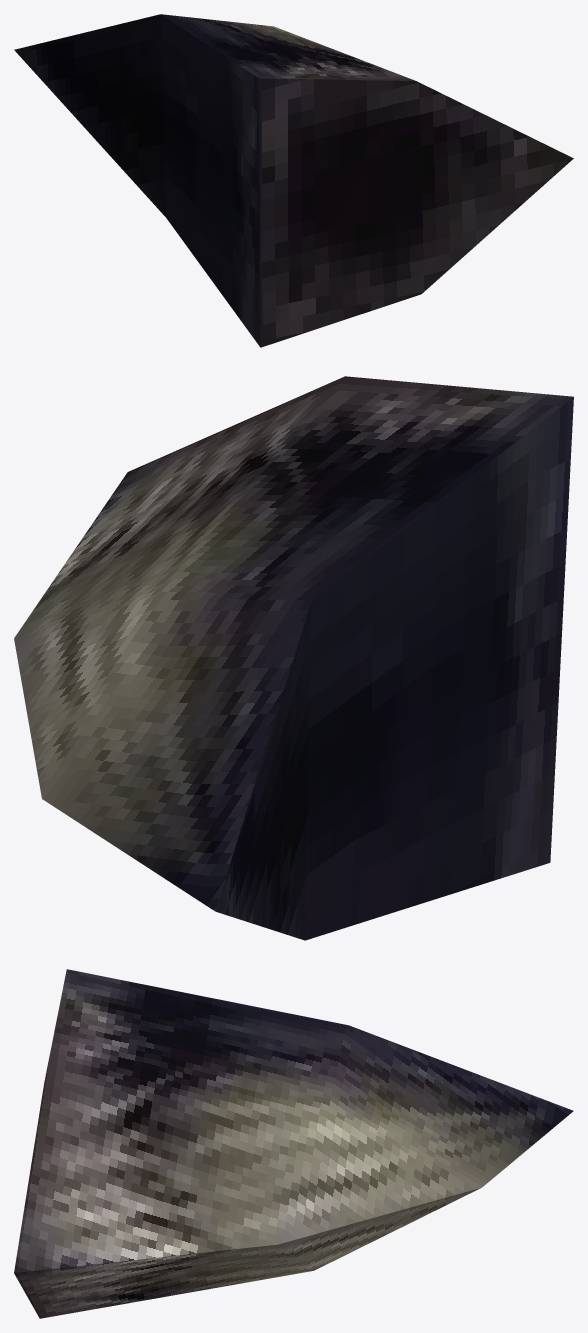
The picture shows the model from 3 angles, top to bottom: view 1: azimuth 30°, elevation 25°; view 2: azimuth 150°, elevation 25°; view 3: azimuth 270°, elevation 25°; orthographic projection. The views are drawn at different scales.
Parts seen in each view (by area): view 1: model_FR_3; view 2: model_FR_3; view 3: model_FR_3.
Boxes of the visible parts, box(x1,y1,x2,y2) form: model_FR_3: box(14, 14, 573, 347); model_FR_3: box(14, 376, 573, 940); model_FR_3: box(14, 969, 573, 1318).
Size of the model in its own units: 0.1715 by 0.1477 by 0.2462.
Materials: 1 (1 with a texture image).
